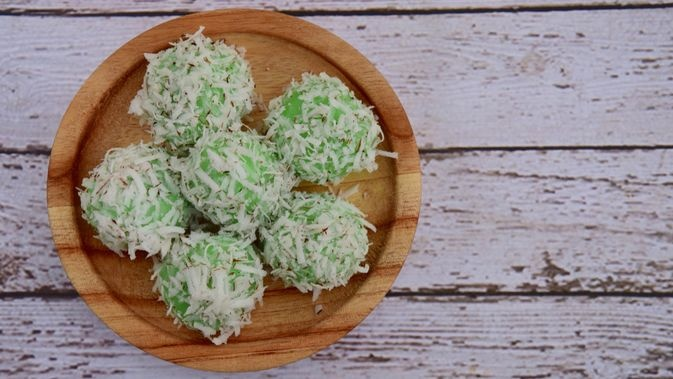klepon: (257, 63, 387, 181)
